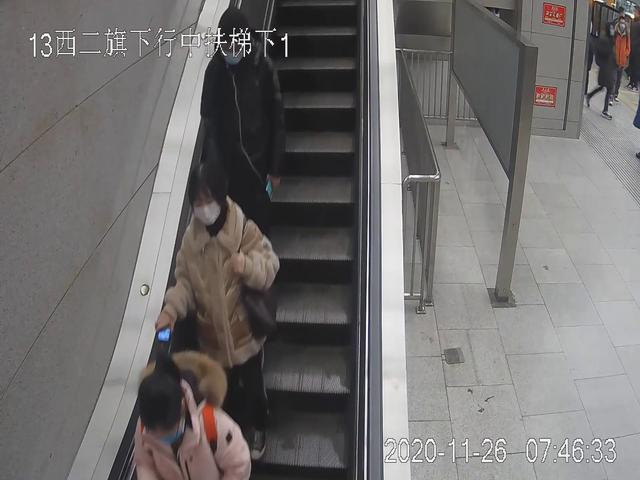person: (158, 165, 278, 466), (200, 10, 283, 287), (128, 351, 252, 480), (585, 22, 628, 122)
